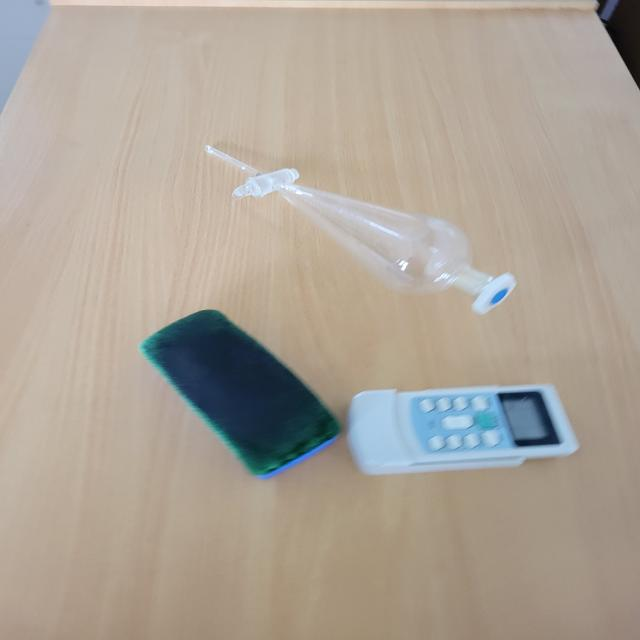Separating_Funnel: (168, 112, 544, 330)
